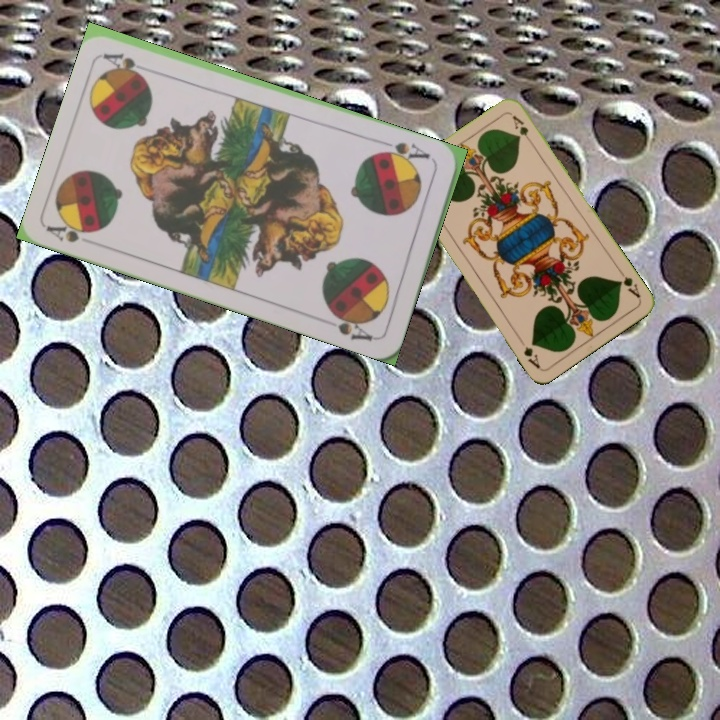GA: (614, 266, 643, 301)
SA: (377, 137, 433, 167), (44, 216, 100, 245)
